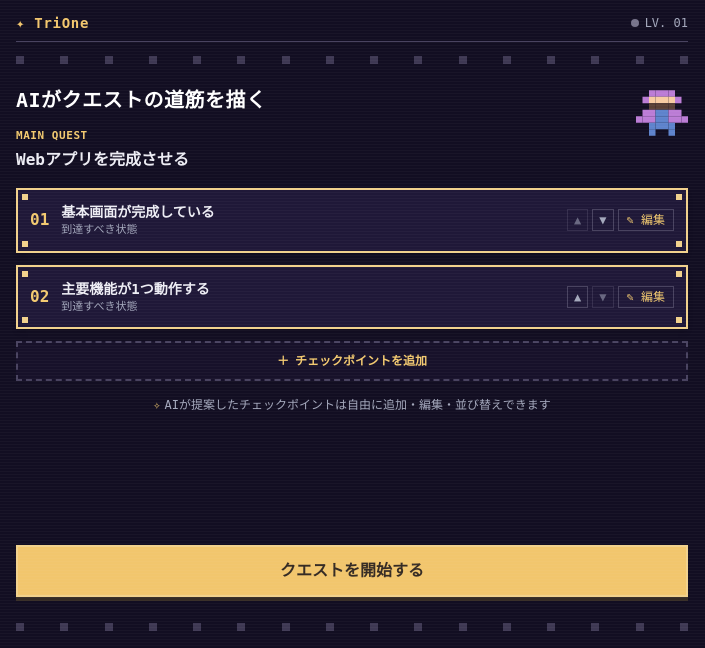
Test: CheckpointGenerationScreen › 編集中は移動ボタンが無効化される
Click the button "✎ 編集" in the row of "基本画面が完成している": (646, 220) [618,209,674,231]
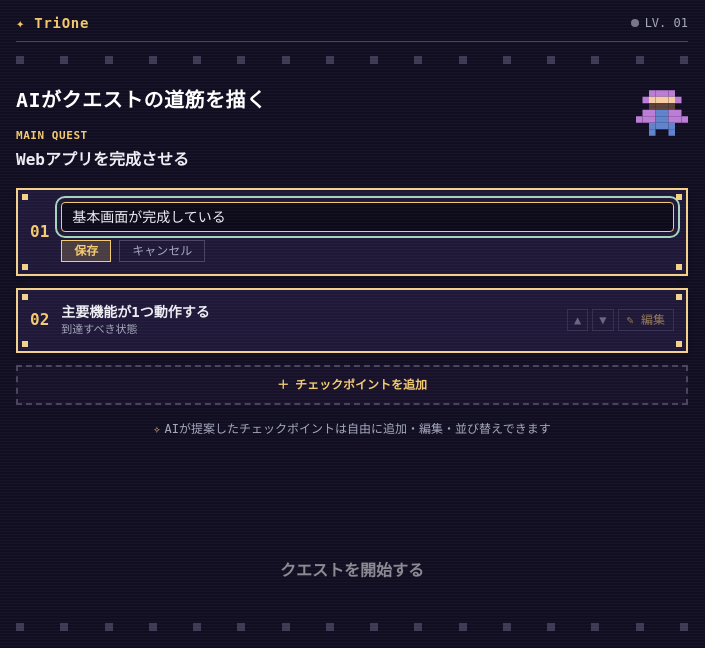
Expected: the button named "下へ移動" is disabled, [592,309,614,331]
Result: the button named "上へ移動" is disabled at [567,309,588,331]
